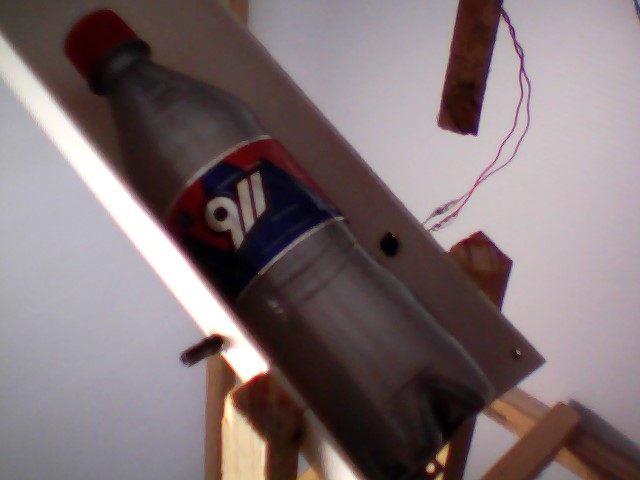plastico: (56, 3, 505, 476)
